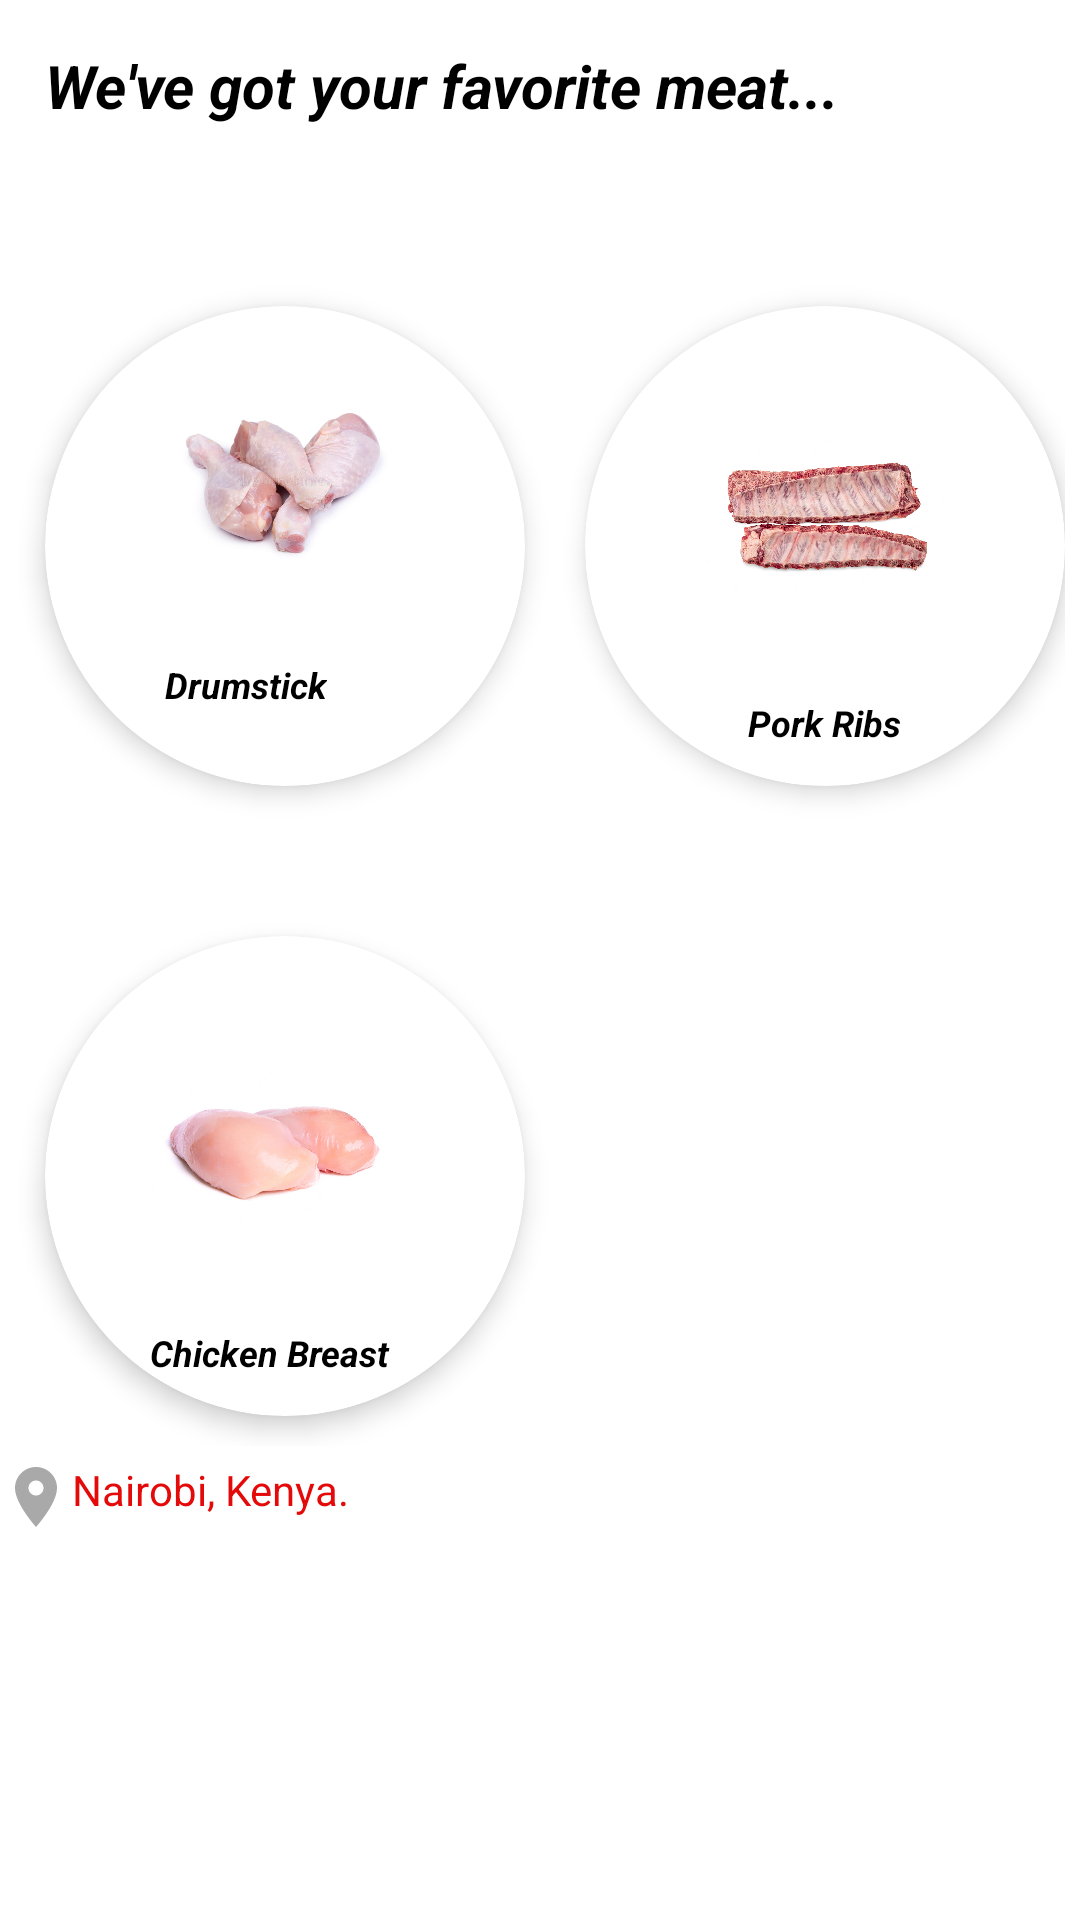

Screen size 1080w x 1920h. Icon name, then its box in pixels as region(x1, y1, x2, y2):
pokribs: region(728, 462, 927, 571)
